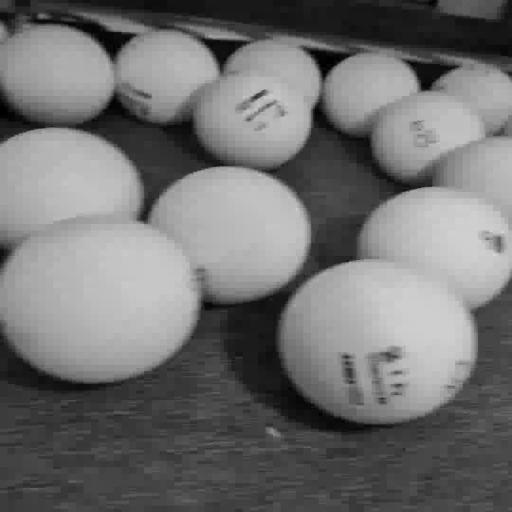fuel: (0, 218, 201, 383), (278, 259, 477, 424), (148, 166, 311, 304), (357, 186, 511, 309), (0, 128, 143, 248), (193, 70, 313, 170), (0, 24, 116, 126), (371, 91, 485, 184), (115, 30, 219, 125), (321, 52, 420, 137), (434, 136, 511, 225), (223, 39, 322, 107), (431, 65, 511, 135), (0, 20, 9, 42)
